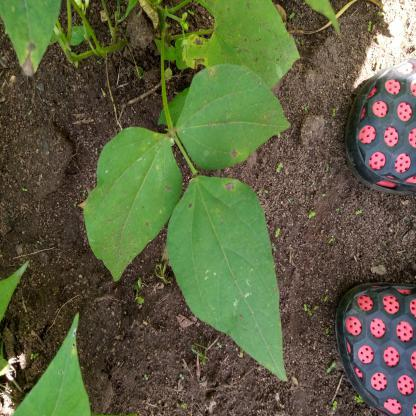Beans_Angular_LeafSpot: (180, 170, 286, 387), (87, 126, 174, 267), (178, 68, 292, 167), (182, 2, 296, 78), (2, 0, 63, 76)
